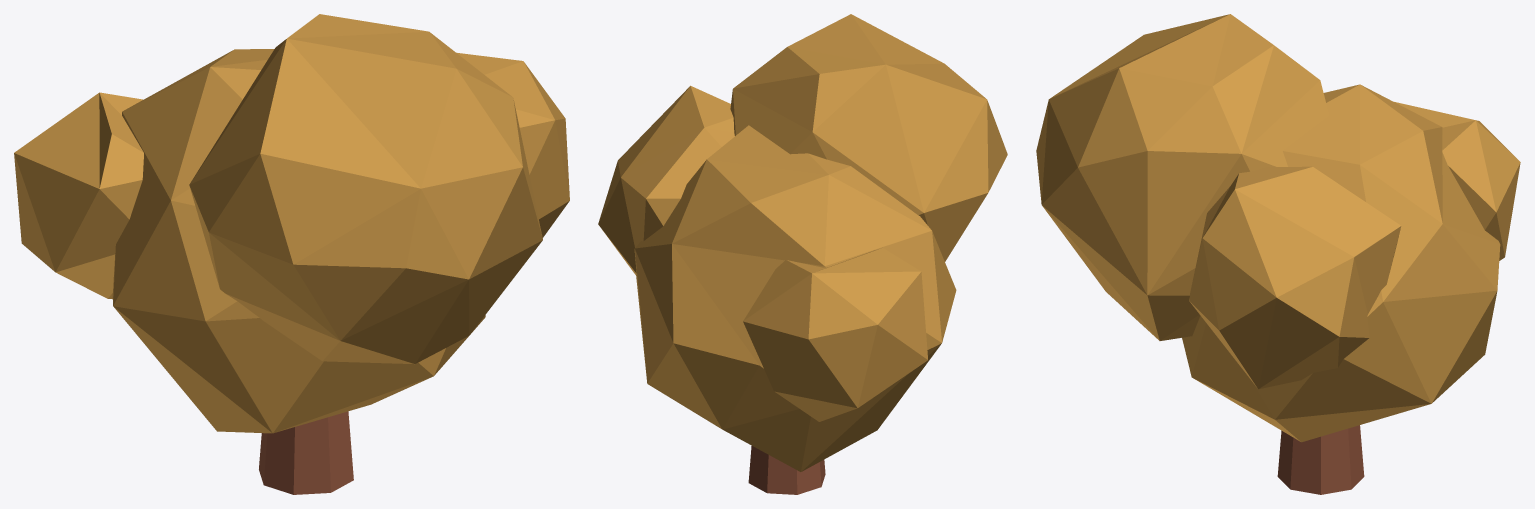
The model's file is Bush_5_autumn.fbx.
3 views of the same model, side by side, from view 1: azimuth 30°, elevation 25°; view 2: azimuth 150°, elevation 25°; view 3: azimuth 270°, elevation 25° (orthographic). The views are drawn at different scales.
Visible parts, largest first — view 1: Bush_5_autumn; view 2: Bush_5_autumn; view 3: Bush_5_autumn.
Part boxes in pixels (x1,y1,x2,y2): Bush_5_autumn: (14, 14, 569, 494); Bush_5_autumn: (598, 14, 1007, 494); Bush_5_autumn: (1036, 14, 1520, 494).
Bounding box in the file's own units: 31.34 × 32.92 × 33.43.
